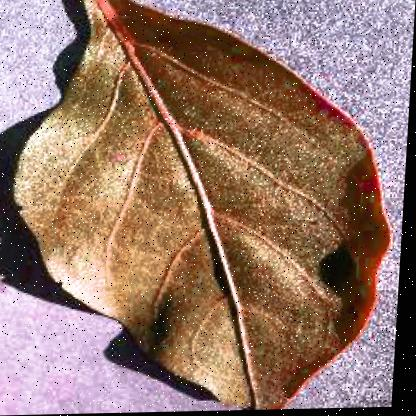Healthy: (1, 0, 412, 415)
